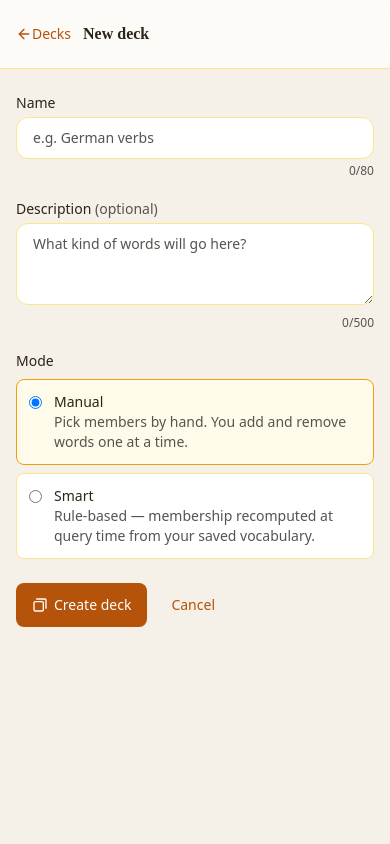
Test: surfaces the API error instead of navigating on failure
The width and height of the screenshot is (390, 844).
Type "German verbs" into the field with test id "deck-name-input" at point(195, 138), box [16,117,374,159]
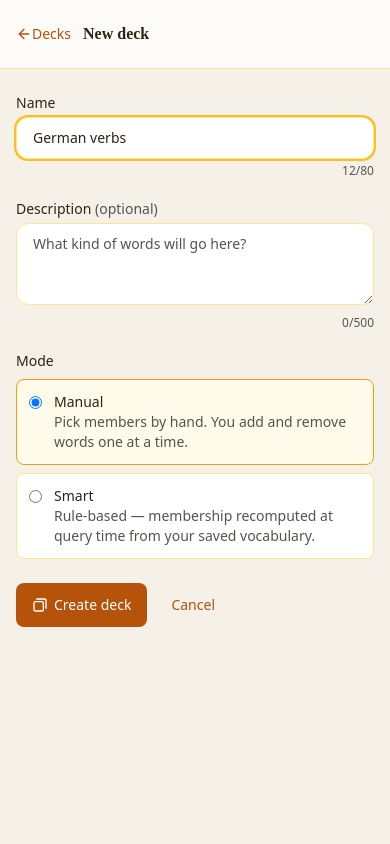
Click the button with test id "deck-submit-btn" at point(82, 605), box [16,583,147,627]
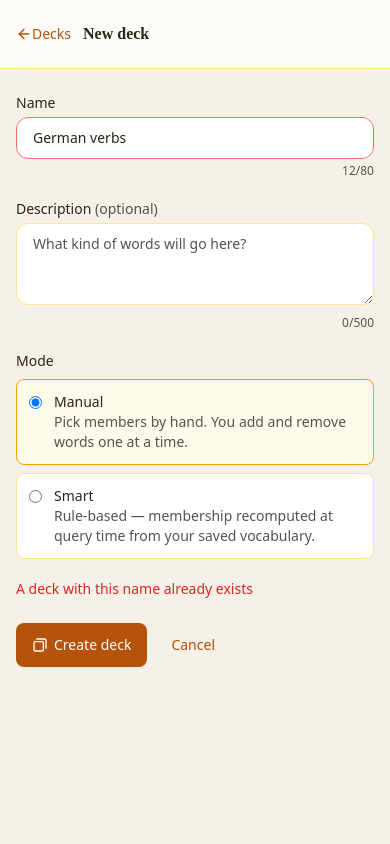
expect the message with test id "deck-form-error" shows "already exists": met, box [16,579,253,598]
